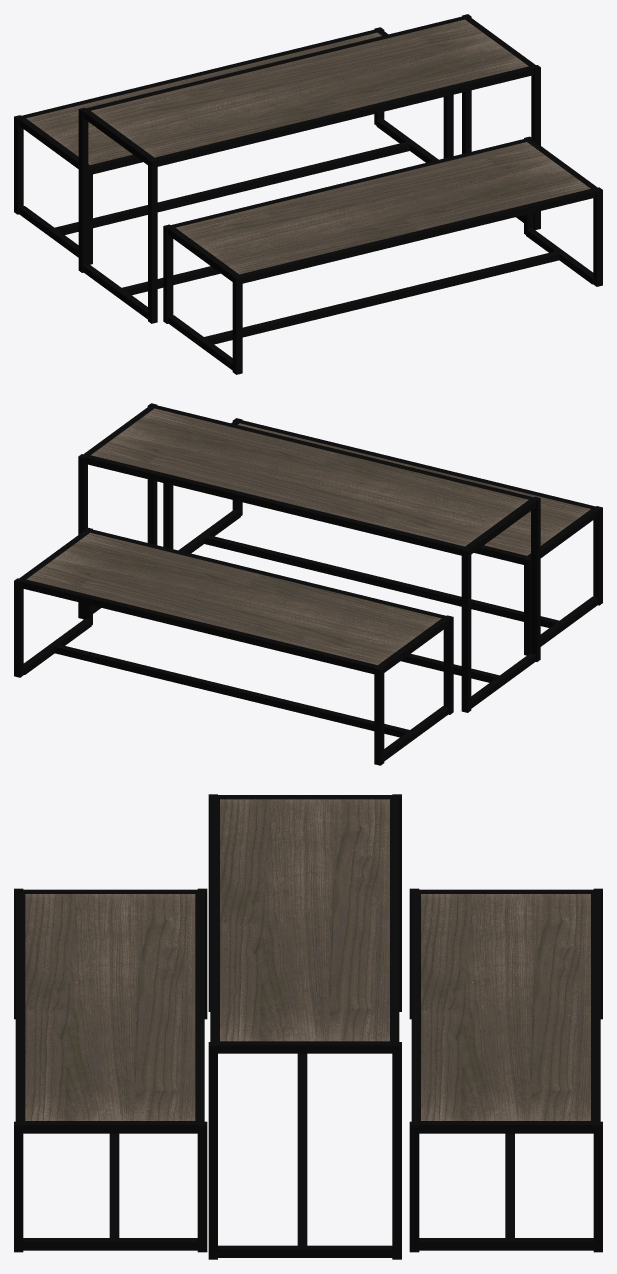
File: Clothes table 2.fbx
The picture shows the model from 3 angles, top to bottom: view 1: azimuth 30°, elevation 25°; view 2: azimuth 150°, elevation 25°; view 3: azimuth 270°, elevation 25°; orthographic projection. The views are drawn at different scales.
Visible parts, largest first — view 1: Clothes table 2; view 2: Clothes table 2; view 3: Clothes table 2.
Boxes of the visible parts, x1,y1,x2,y2 form: Clothes table 2: (14, 14, 602, 374); Clothes table 2: (14, 403, 602, 765); Clothes table 2: (14, 794, 602, 1259).
Bounding box in the file's own units: 163 × 64.66 × 161.
2 materials, 1 textured.
